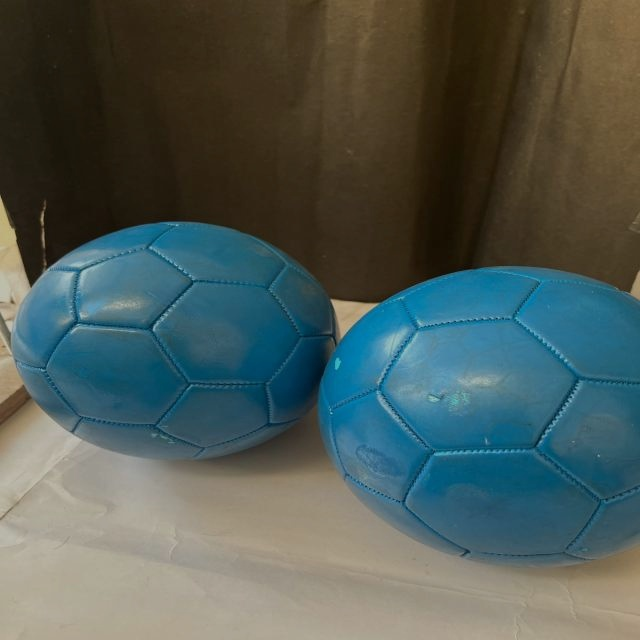blue_ball: (317, 265, 640, 567), (18, 217, 330, 467)
